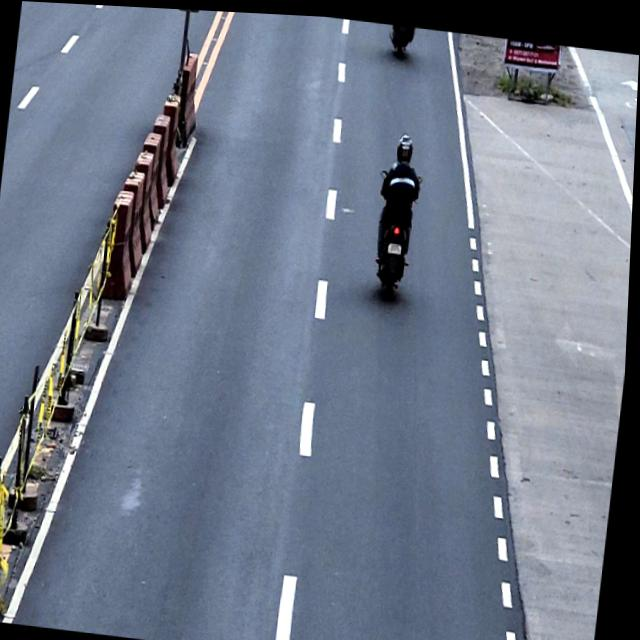License-Plate: (389, 236, 404, 251)
Motorcycle: (368, 163, 422, 298)
